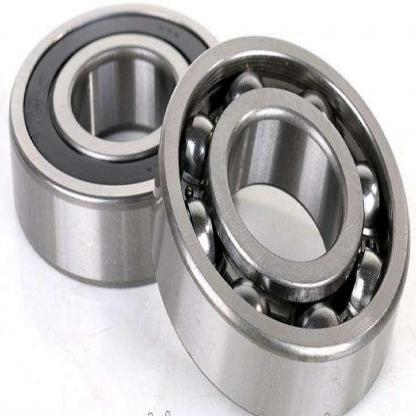FOD: (147, 26, 411, 415), (5, 0, 241, 288)
